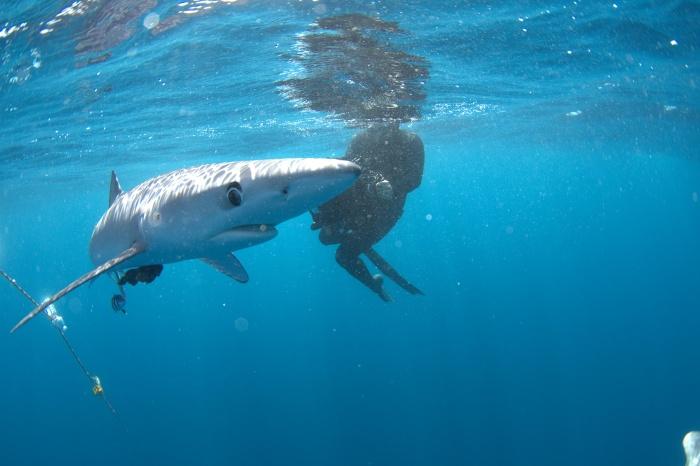Azul: (1, 142, 383, 343)
